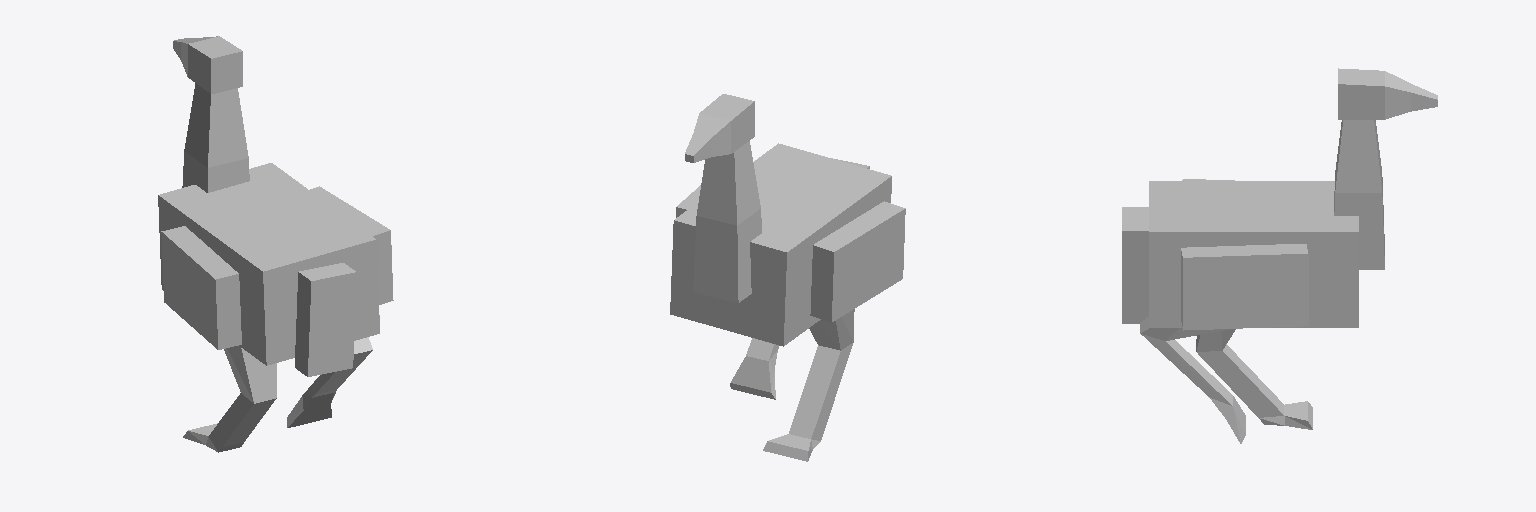
Rendered from Ostrich_000218.obj.
The picture shows the model from 3 angles: view 1: azimuth 30°, elevation 25°; view 2: azimuth 150°, elevation 25°; view 3: azimuth 270°, elevation 25°; orthographic projection.
Visible parts, largest first — view 1: Cube_Cube.001; view 2: Cube_Cube.001; view 3: Cube_Cube.001.
Part boxes in pixels (x1,y1,x2,y2): Cube_Cube.001: (158,36,393,452); Cube_Cube.001: (670,94,905,461); Cube_Cube.001: (1122,68,1437,443).
Bounding box in the file's own units: 0.784 × 1.51 × 1.2.